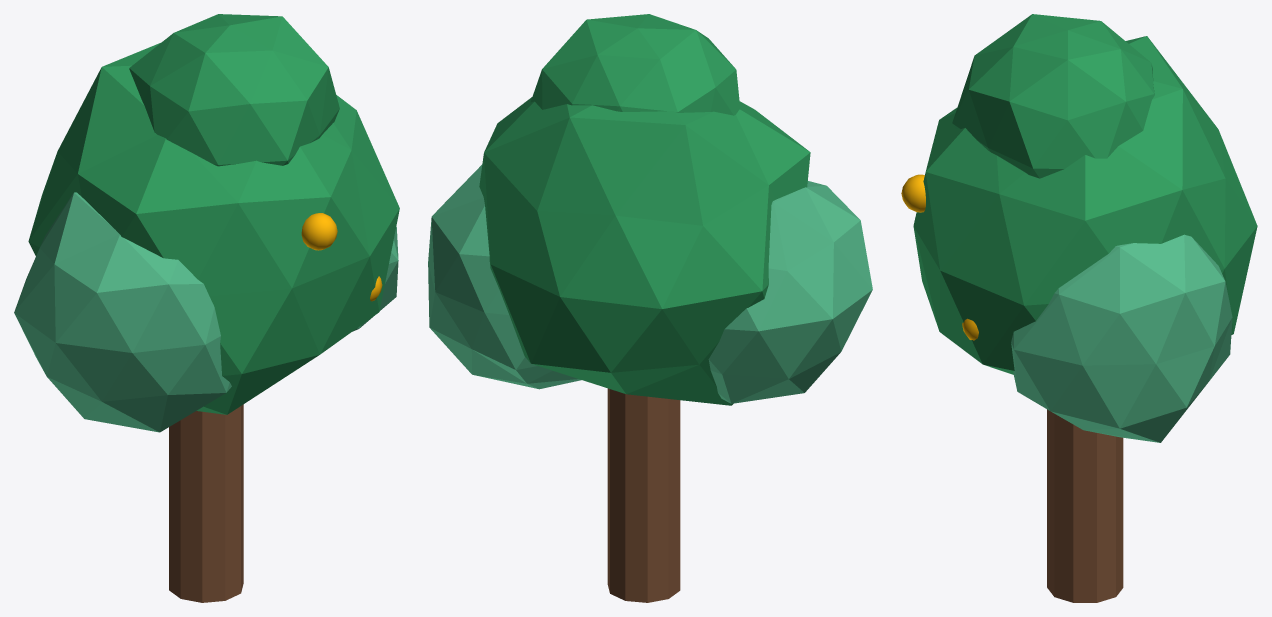
File: tree.glb
3 views of the same model, side by side, from view 1: azimuth 30°, elevation 25°; view 2: azimuth 150°, elevation 25°; view 3: azimuth 270°, elevation 25° (orthographic). The views are drawn at different scales.
Visible parts, largest first — view 1: Crown0, Crown2, Crown3, Trunk, Fruit2, Crown1; view 2: Crown0, Crown2, Crown3, Trunk, Crown1; view 3: Crown0, Crown1, Crown3, Trunk, Fruit2.
Part boxes in pixels (x1,y1,x2,y2): Crown0: (28,43,399,414); Crown2: (14,192,231,432); Crown3: (129,14,339,166); Trunk: (169,404,243,602); Fruit2: (301,213,337,250); Crown1: (352,227,398,331); Crown0: (479,97,810,405); Crown2: (708,181,872,403); Crown3: (530,14,740,115); Trunk: (607,388,680,602); Crown1: (428,164,581,389); Crown0: (913,36,1257,374); Crown1: (1011,234,1232,442); Crown3: (952,14,1154,178); Trunk: (1047,409,1123,602); Fruit2: (901,174,925,212).
Bounding box in the file's own units: 2.55 × 3.59 × 2.05.
